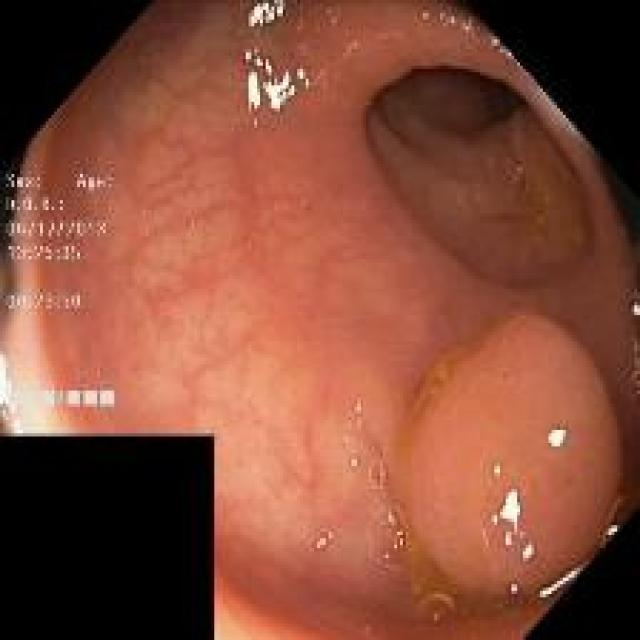Polyps: (392, 312, 621, 630)
